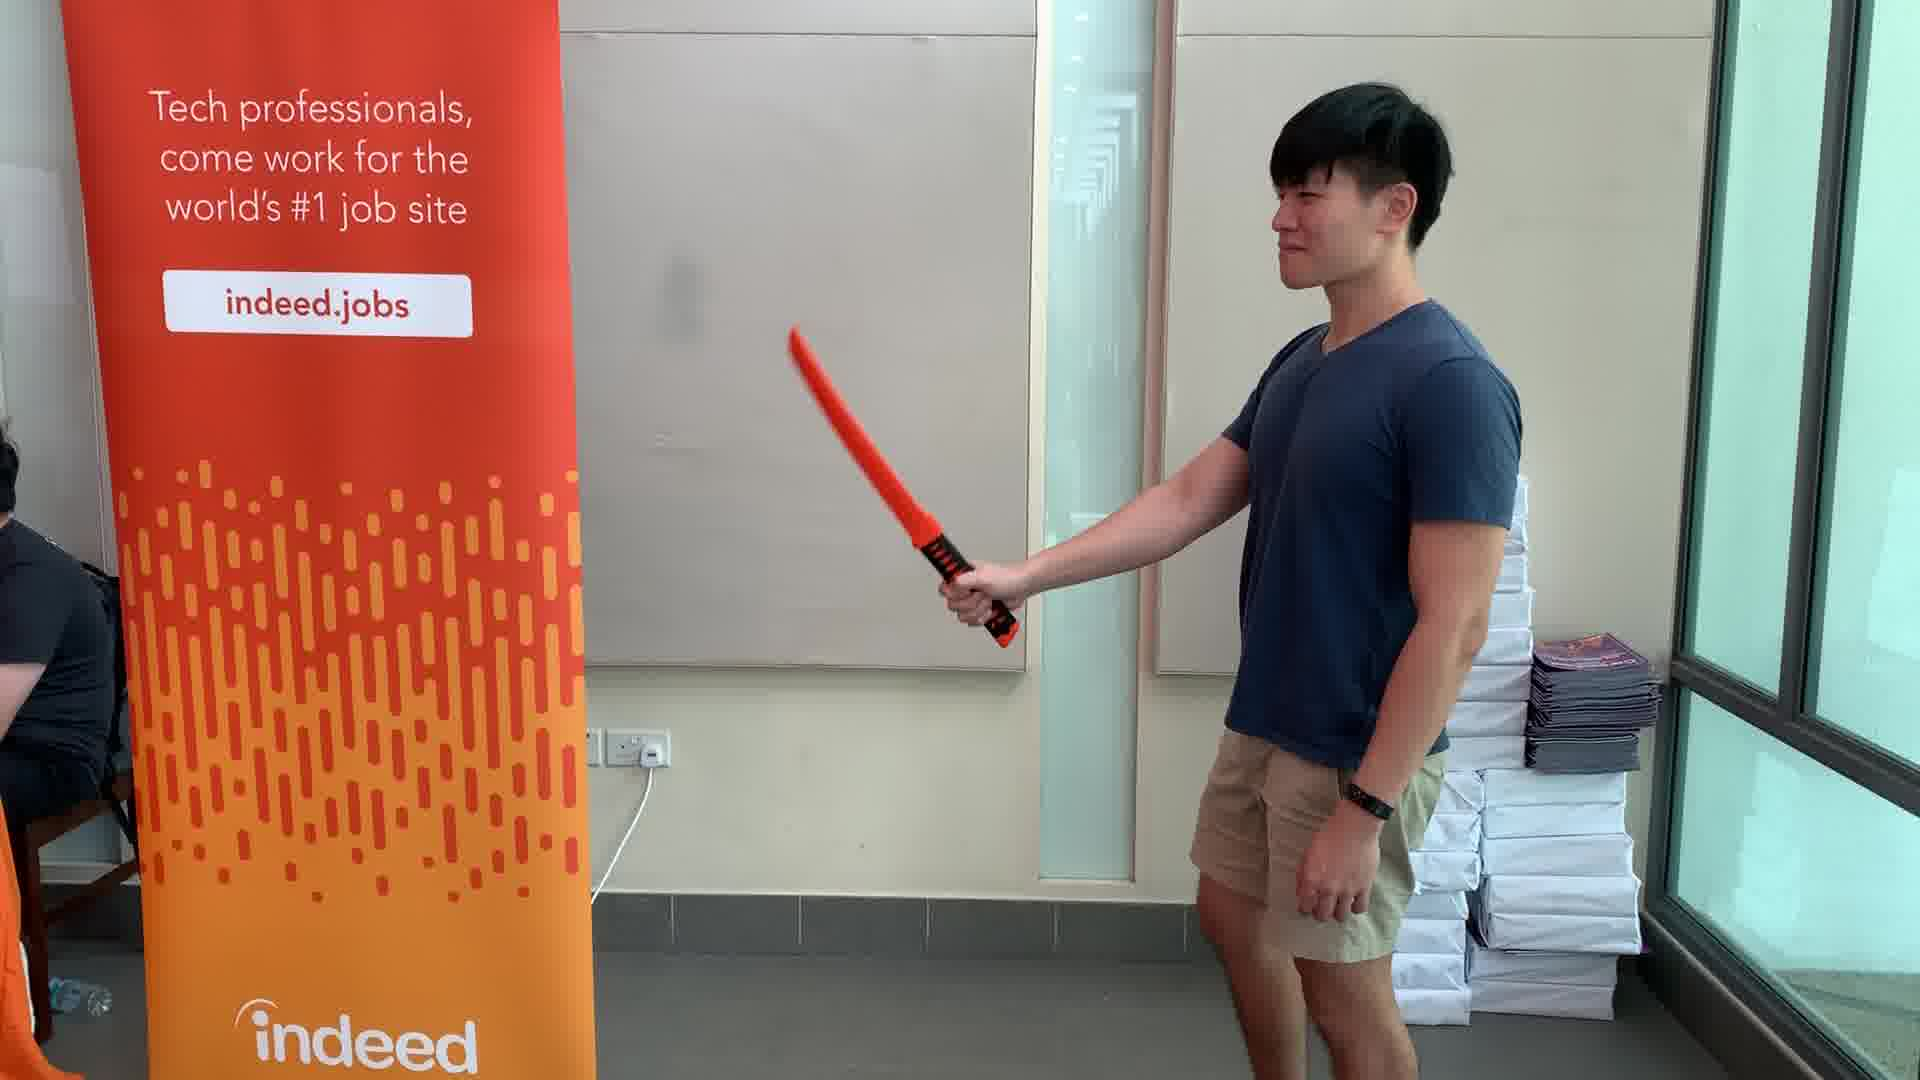knife: (779, 313, 1027, 655)
